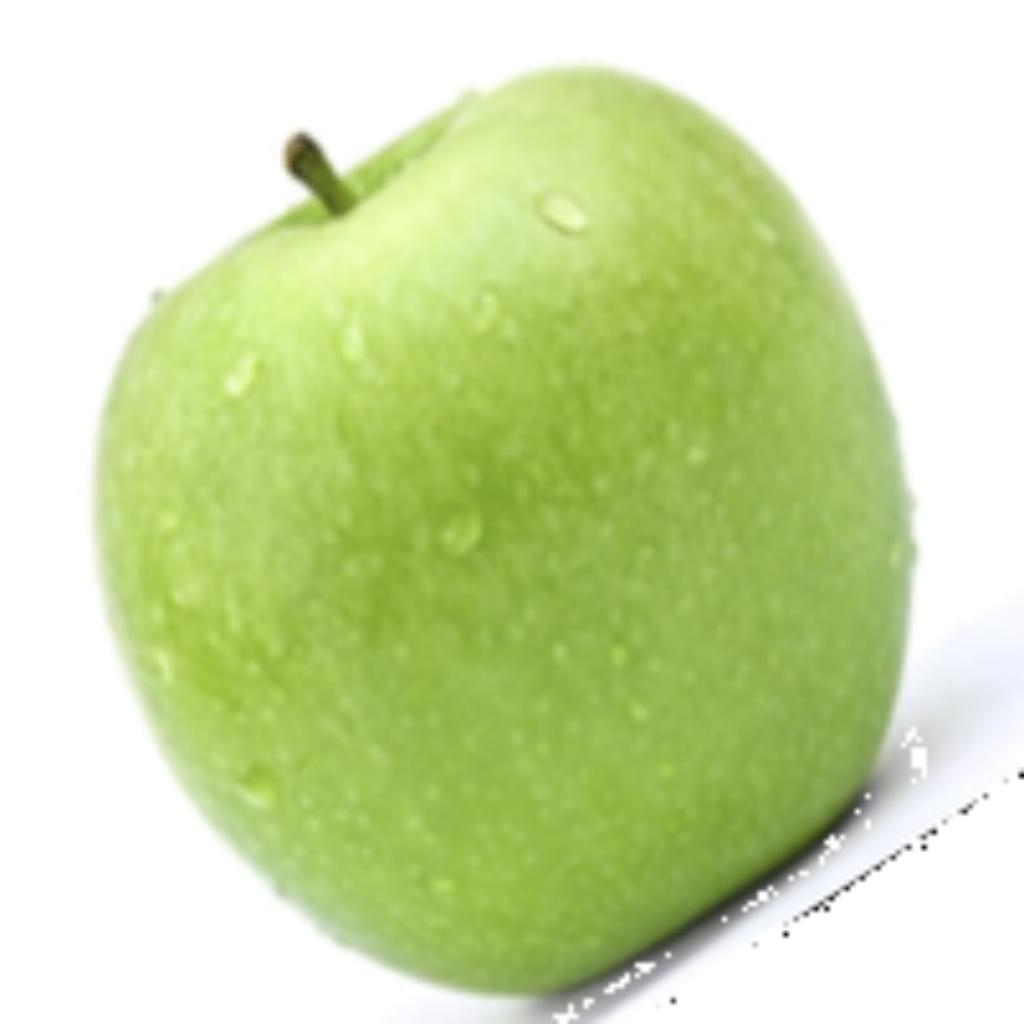apple: (82, 56, 993, 1019)
